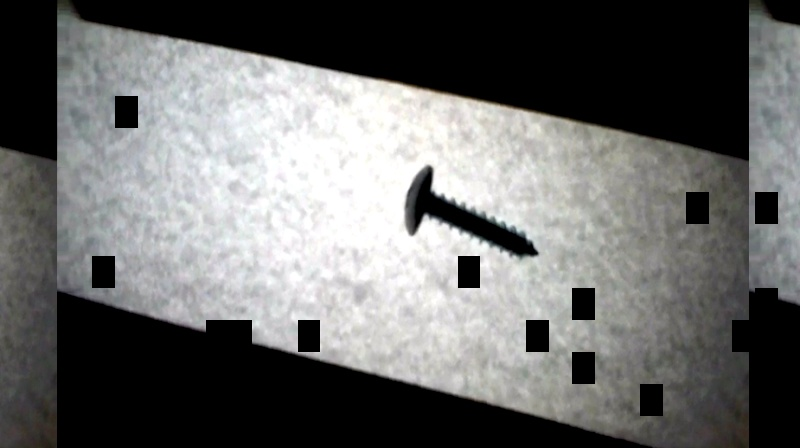S003: (400, 161, 543, 264)
